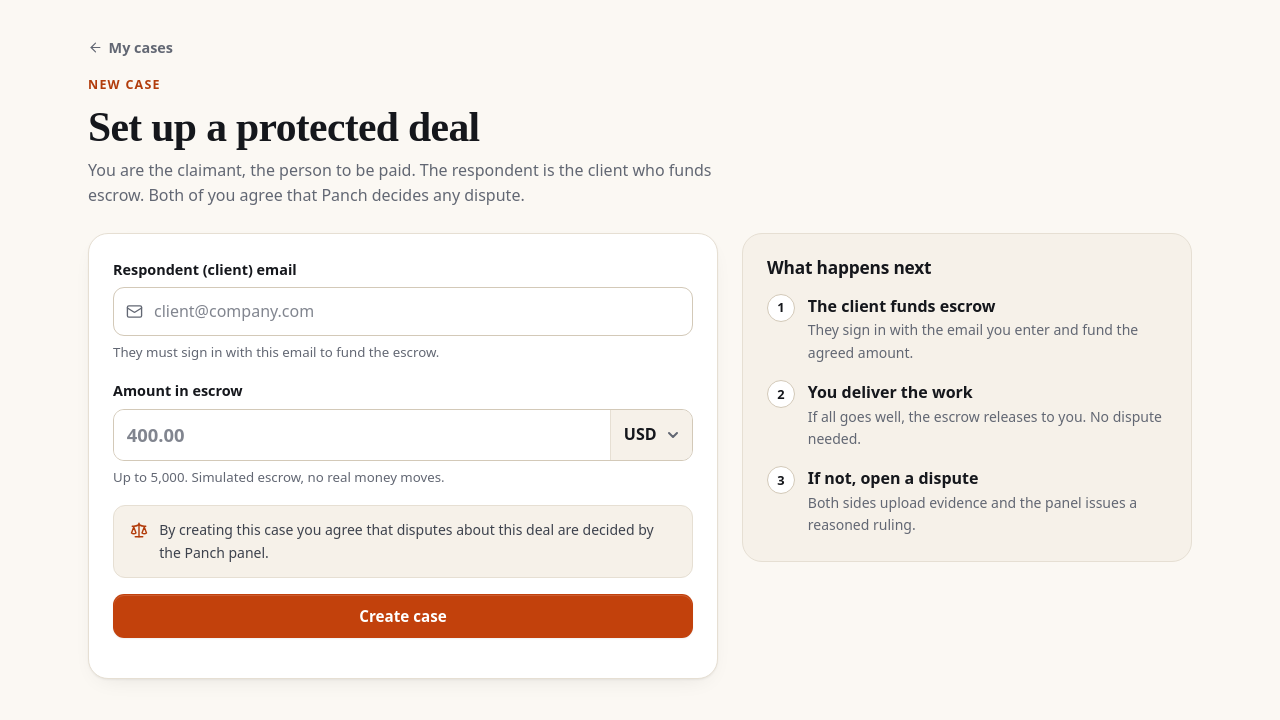
new case › rejects klaus@example.com /
Step 1. Type "klaus@example.com" into the field with test id "respondent-email" → (403, 311), box left=113, top=287, right=693, bottom=336
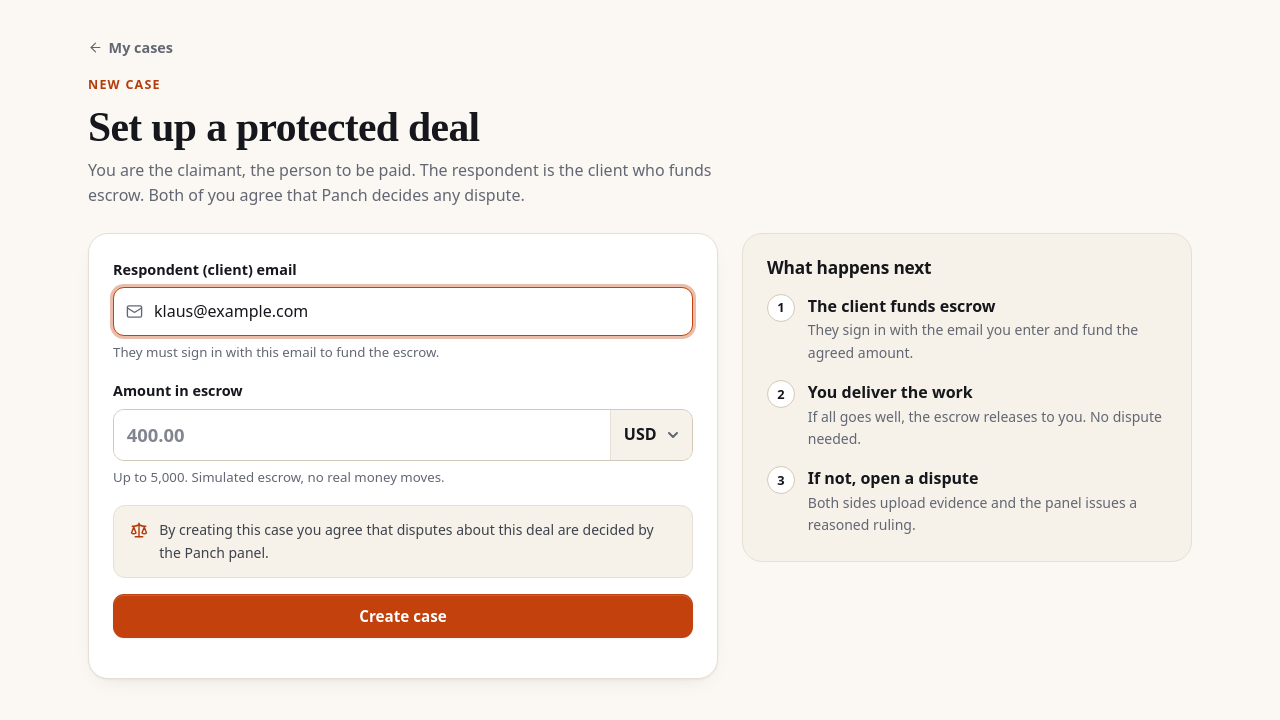
Step 2. Clear the field with test id "amount" → (362, 435), box left=114, top=410, right=610, bottom=460
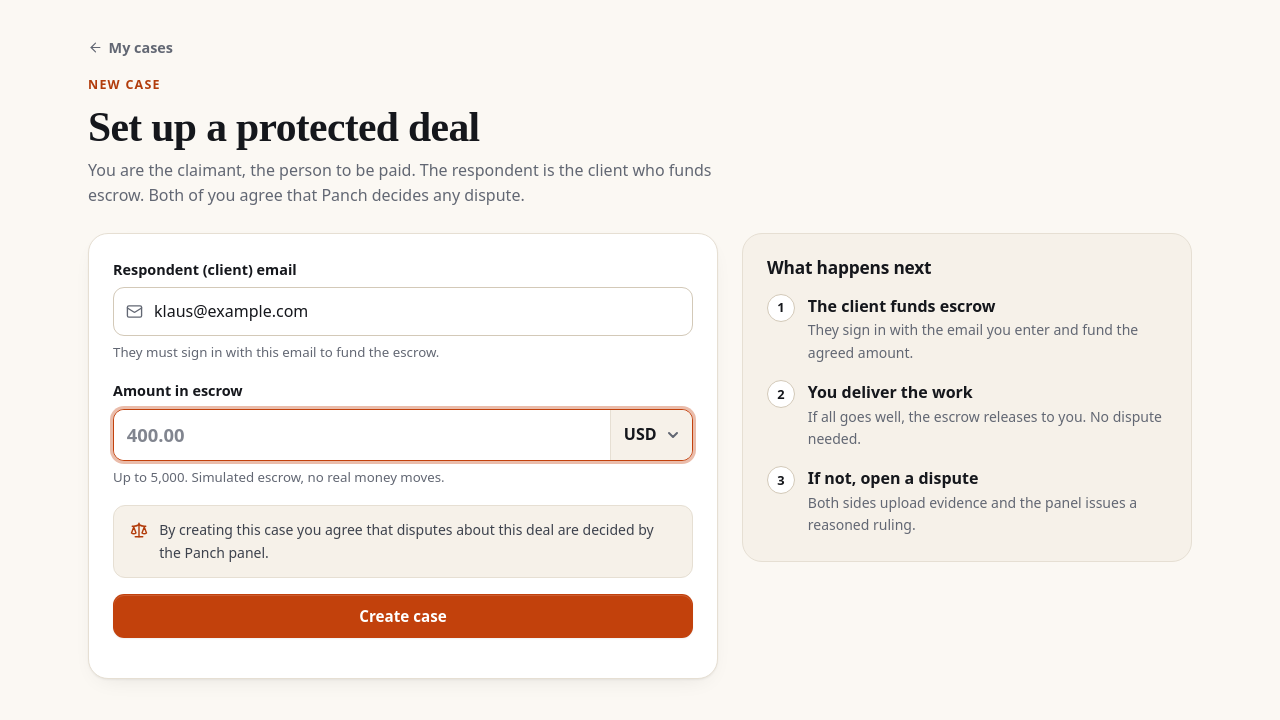
Step 3. Click the button with test id "create-case" → (403, 616), box left=113, top=594, right=693, bottom=638
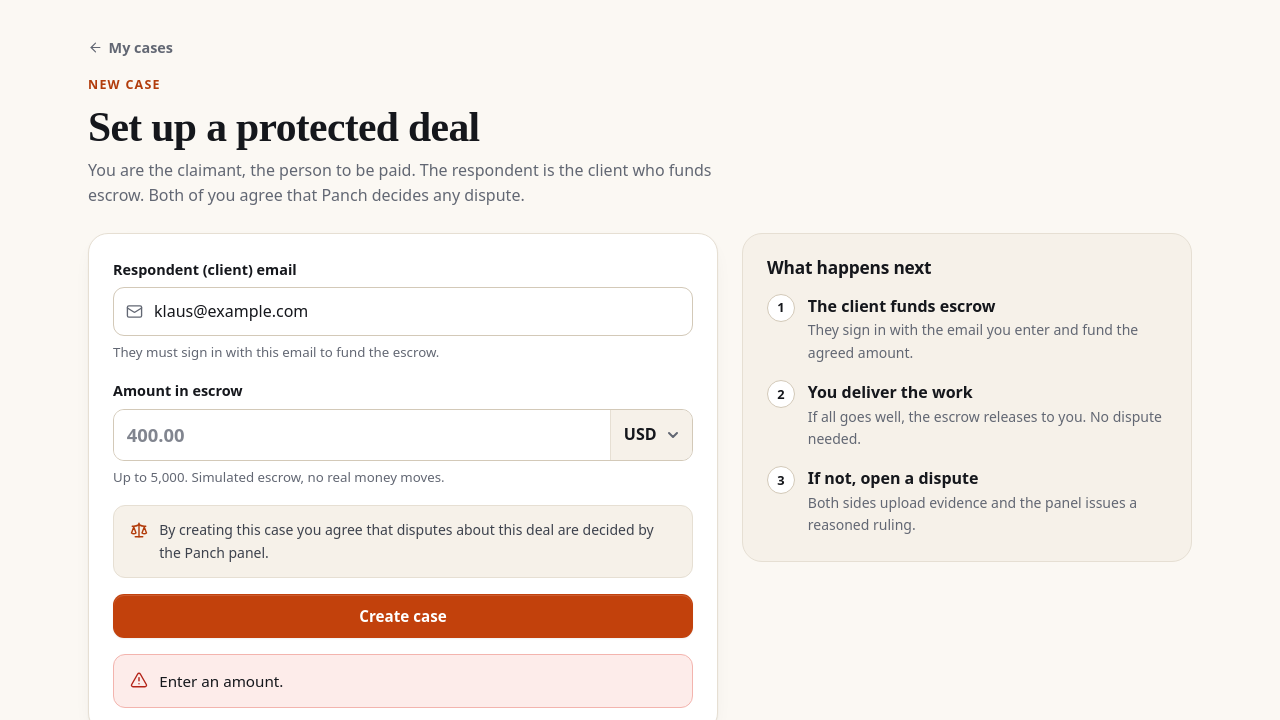
Expected: the message reads "Enter an amount.", left=159, top=671, right=283, bottom=691
